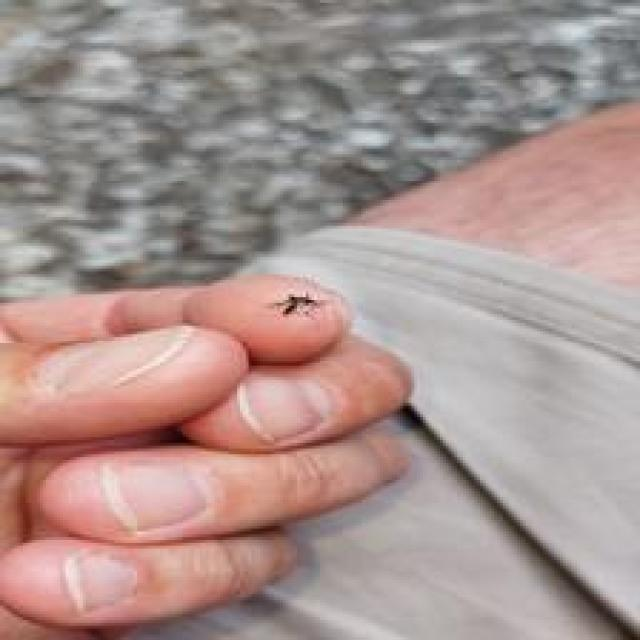Aedes albopictus: (273, 292, 321, 317)
